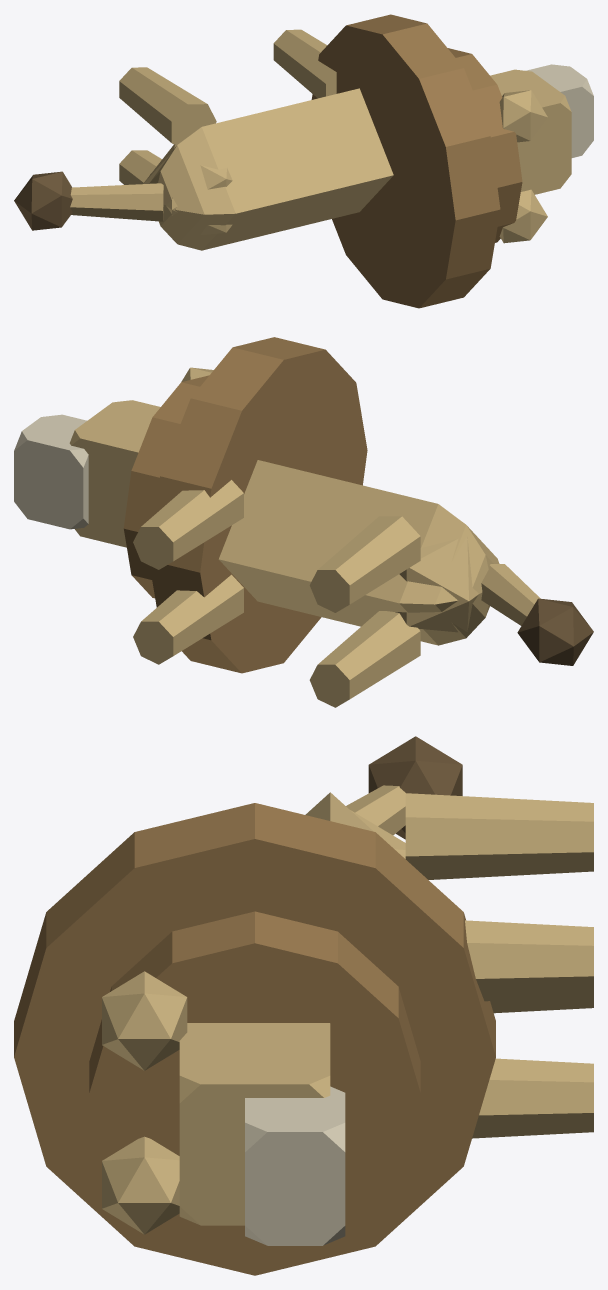
3 views of the same model, one above another, from view 1: azimuth 30°, elevation 25°; view 2: azimuth 150°, elevation 25°; view 3: azimuth 270°, elevation 25° (orthographic). The views are drawn at different scales.
Visible parts, largest first — view 1: part2, part0, part4, part12, part3, part8, part10, part9, part5, part6, part7, part1 (+1 smaller); view 2: part2, part0, part5, part4, part12, part13, part10, part11, part3, part1, part9, part8; view 3: part2, part3, part4, part5, part12, part10, part11, part6, part7, part9, part8, part13 (+1 smaller).
Part boxes in pixels (bbox=[...]): part2: bbox=[311, 14, 500, 308]; part0: bbox=[149, 88, 393, 250]; part4: bbox=[490, 69, 571, 194]; part12: bbox=[119, 67, 216, 144]; part3: bbox=[448, 48, 522, 242]; part8: bbox=[70, 183, 163, 221]; part10: bbox=[273, 29, 336, 98]; part9: bbox=[14, 171, 72, 230]; part5: bbox=[526, 64, 593, 157]; part6: bbox=[499, 90, 547, 142]; part7: bbox=[499, 189, 547, 243]; part1: bbox=[143, 142, 232, 234]; part2: bbox=[150, 337, 367, 673]; part0: bbox=[218, 460, 499, 645]; part5: bbox=[14, 414, 88, 529]; part4: bbox=[69, 400, 160, 547]; part12: bbox=[309, 516, 420, 612]; part13: bbox=[309, 611, 420, 707]; part10: bbox=[133, 480, 243, 569]; part11: bbox=[133, 574, 243, 664]; part3: bbox=[123, 375, 209, 598]; part1: bbox=[395, 536, 478, 632]; part9: bbox=[517, 598, 593, 665]; part8: bbox=[481, 564, 540, 625]; part2: bbox=[14, 803, 495, 1275]; part3: bbox=[89, 911, 420, 1243]; part4: bbox=[179, 1023, 330, 1225]; part5: bbox=[245, 1086, 345, 1245]; part12: bbox=[405, 793, 593, 879]; part10: bbox=[465, 920, 593, 1001]; part11: bbox=[472, 1058, 593, 1138]; part6: bbox=[102, 971, 187, 1070]; part7: bbox=[102, 1136, 179, 1234]; part9: bbox=[368, 736, 462, 839]; part8: bbox=[346, 785, 405, 835]; part13: bbox=[490, 995, 593, 1013].
Size of the model in its own units: 3.94 by 1.92 by 2.31.
